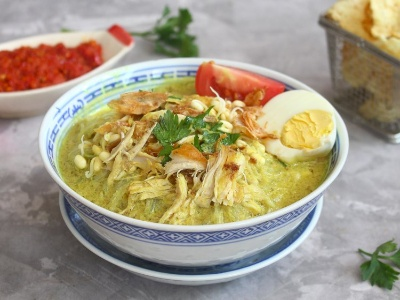soto: (74, 87, 332, 218)
